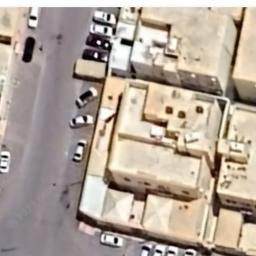SUV: (86, 22, 114, 38), (92, 8, 118, 24)
others: (72, 86, 100, 108)
sedan: (70, 138, 90, 162), (96, 232, 126, 248), (66, 114, 98, 128), (80, 46, 109, 60), (0, 150, 12, 174), (153, 241, 166, 256), (179, 246, 198, 256), (138, 242, 150, 256), (167, 244, 179, 256)
van: (24, 8, 46, 28)
